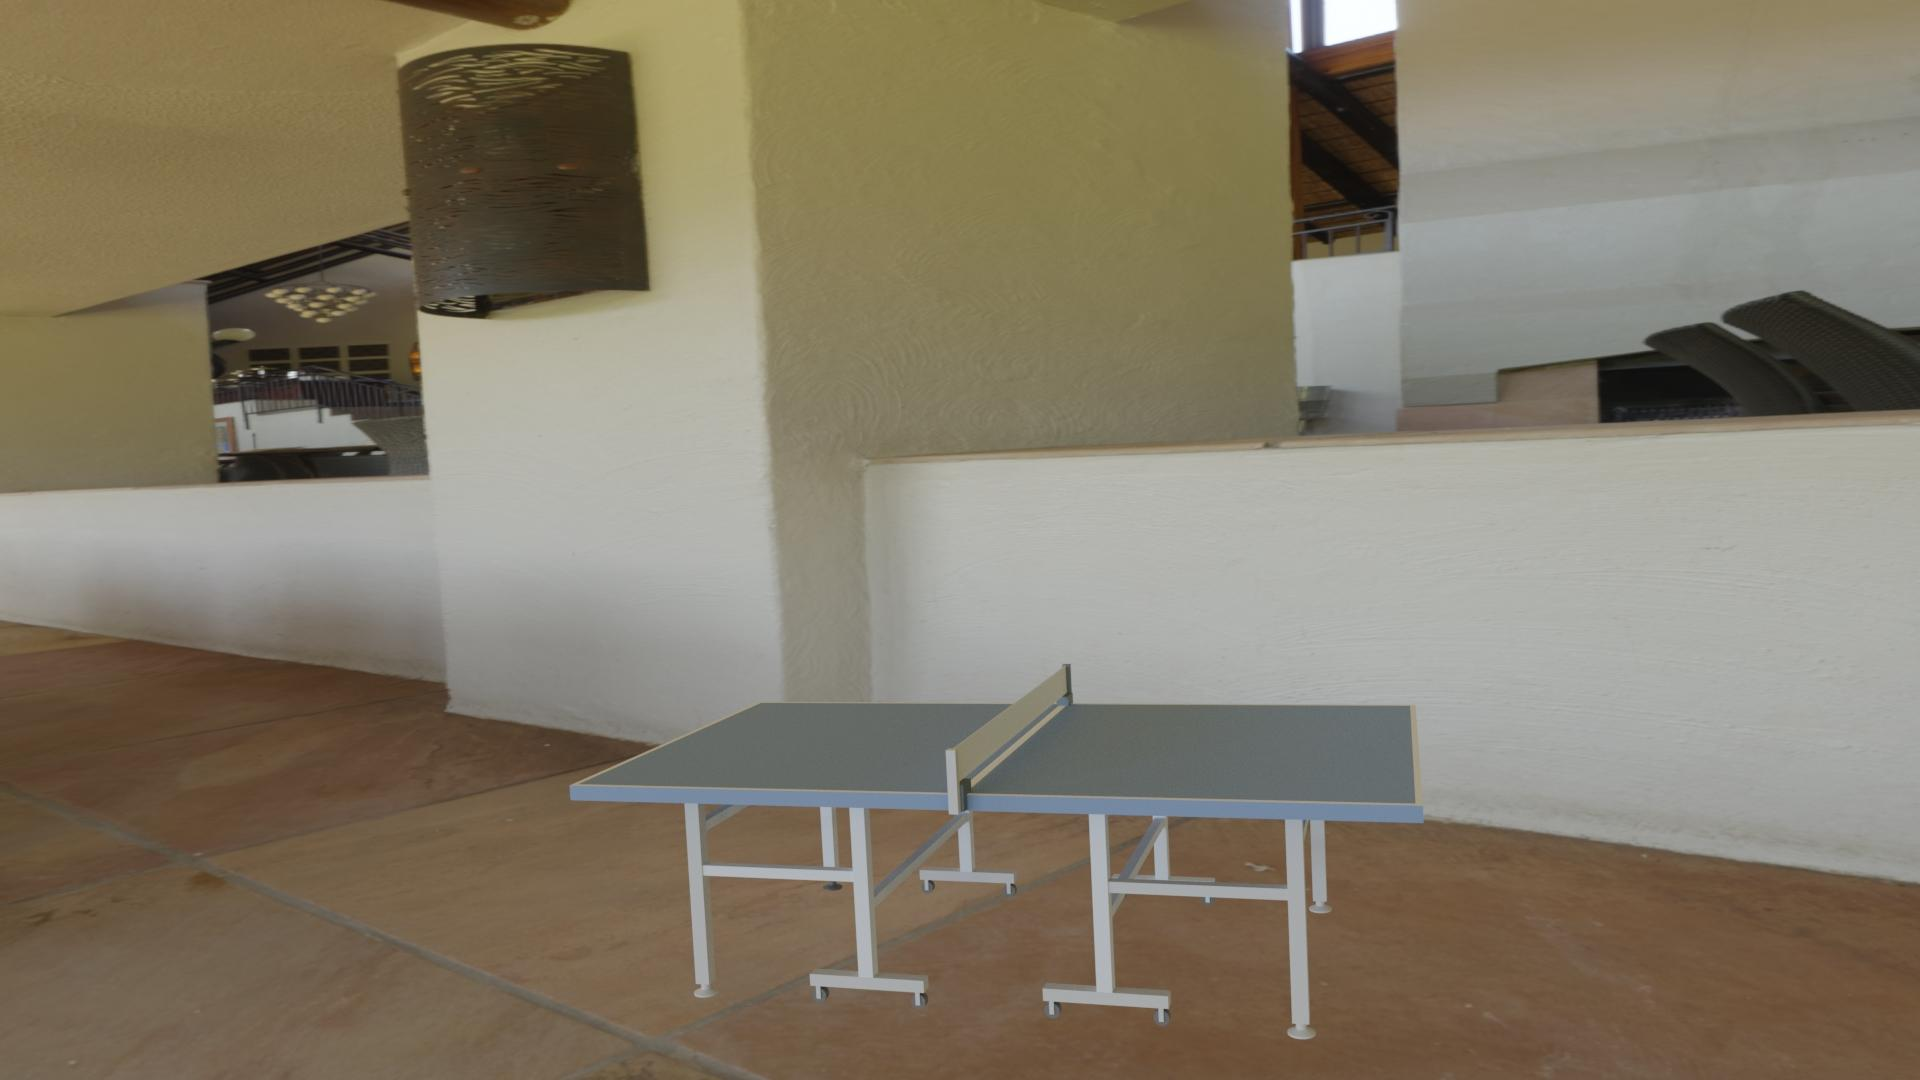table: (578, 703, 1415, 803)
